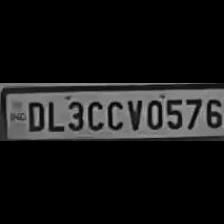0: (142, 96, 162, 130)
3: (64, 98, 84, 132)
5: (164, 94, 182, 130)
6: (202, 96, 222, 128)
7: (183, 96, 200, 130)
C: (104, 97, 124, 131), (86, 98, 102, 132)
D: (24, 100, 43, 132)
L: (46, 98, 62, 132)
V: (124, 97, 142, 131)
